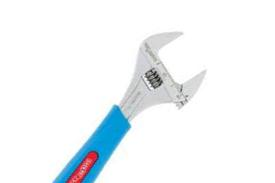wrench: (20, 27, 249, 154)
